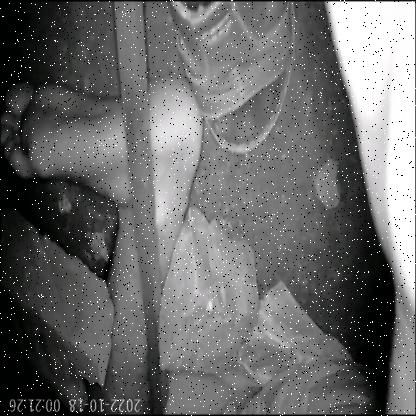leg: (0, 57, 207, 416)
